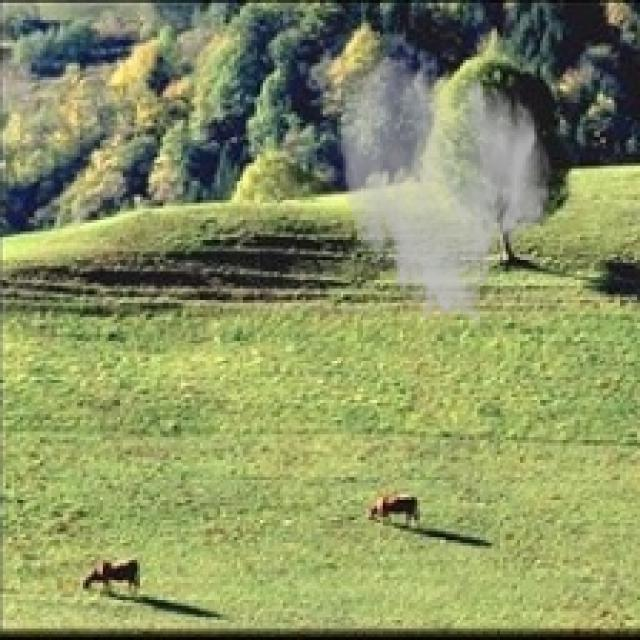smoke: (334, 52, 554, 334)
